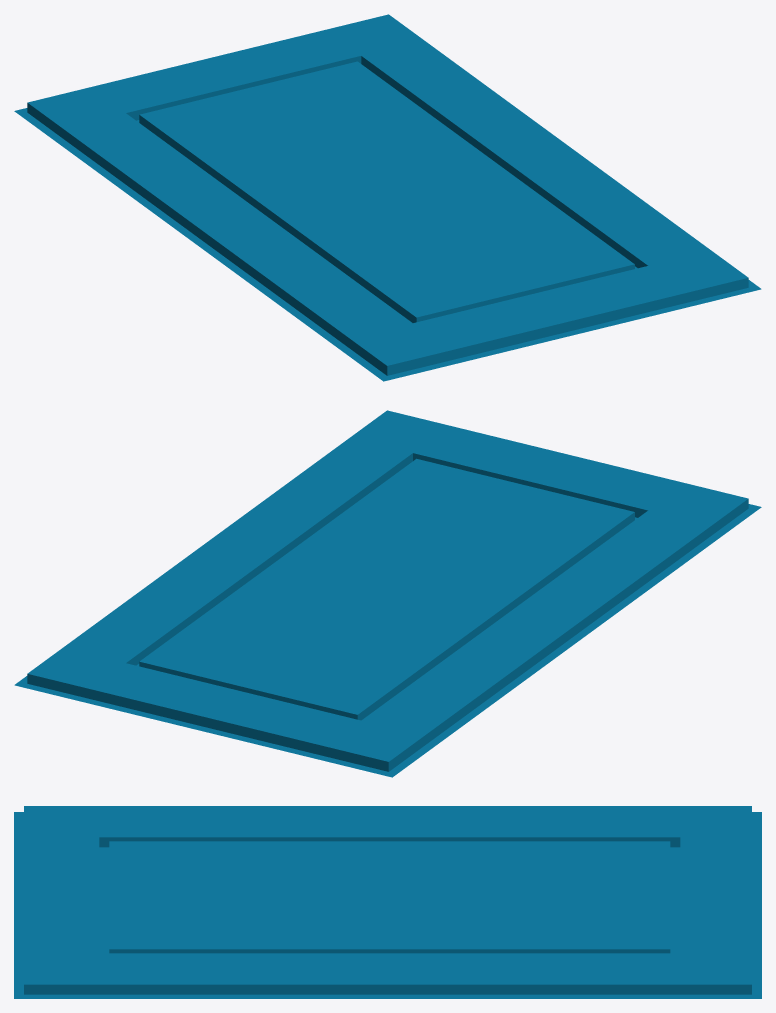
Rendered from Floor2.fbx.
3 views of the same model, one above another, from view 1: azimuth 30°, elevation 25°; view 2: azimuth 150°, elevation 25°; view 3: azimuth 270°, elevation 25° (orthographic).
Visible parts, largest first — view 1: fLOOR.003; view 2: fLOOR.003; view 3: fLOOR.003.
Part boxes in pixels (left/top/right/bottom): fLOOR.003: left=14, top=14, right=761, bottom=381; fLOOR.003: left=14, top=410, right=761, bottom=777; fLOOR.003: left=14, top=806, right=761, bottom=998.
Bounding box in the file's own units: 118 × 2.99 × 200.
